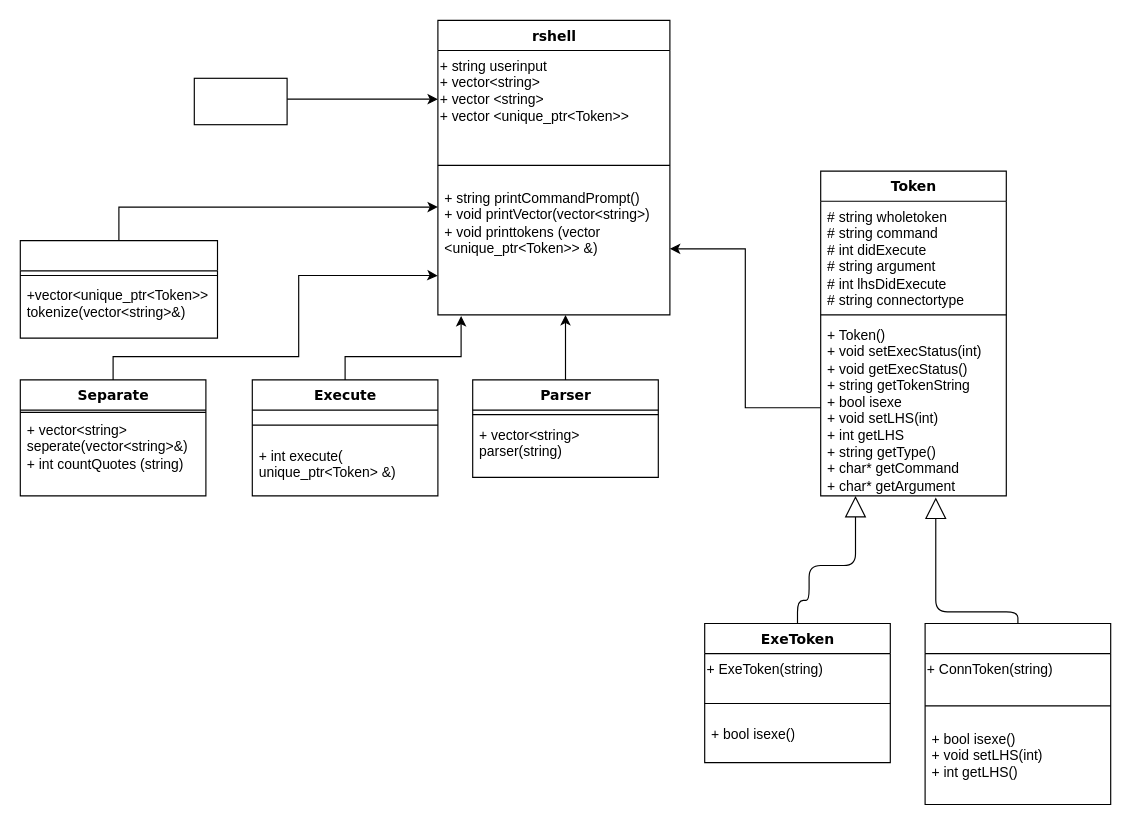
The diagram is 1131 pixels wide and 828 high, and some of its shapes have lost their labels. Here are the shapes that lost their labels. From the top down, the box of each, then its label:
(193, 77, 287, 125): User
(19, 240, 217, 338): Tokenizer
(924, 622, 1111, 804): ConnTokrn
